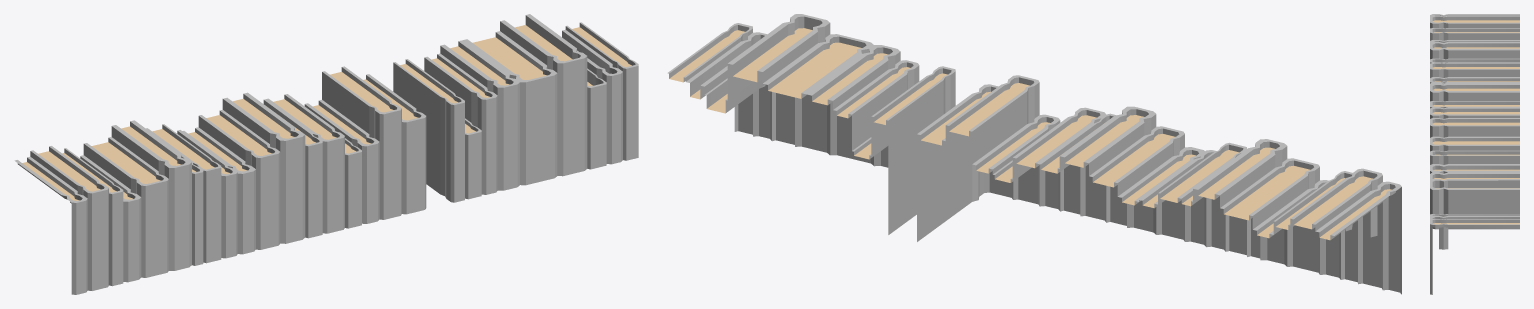
Rendered from prop_biblioteca_libros_hueco002.fbx.
The picture shows the model from 3 angles, left to right: view 1: azimuth 30°, elevation 25°; view 2: azimuth 150°, elevation 25°; view 3: azimuth 270°, elevation 25°; orthographic projection. The views are drawn at different scales.
Visible parts, largest first — view 1: prop_biblioteca_libros_hueco002; view 2: prop_biblioteca_libros_hueco002; view 3: prop_biblioteca_libros_hueco002.
Part boxes in pixels (<box>): prop_biblioteca_libros_hueco002: <box>14,14,638,294</box>; prop_biblioteca_libros_hueco002: <box>667,14,1401,294</box>; prop_biblioteca_libros_hueco002: <box>1430,14,1519,294</box>.
Bounding box in the file's own units: 200 × 38.01 × 36.04.
